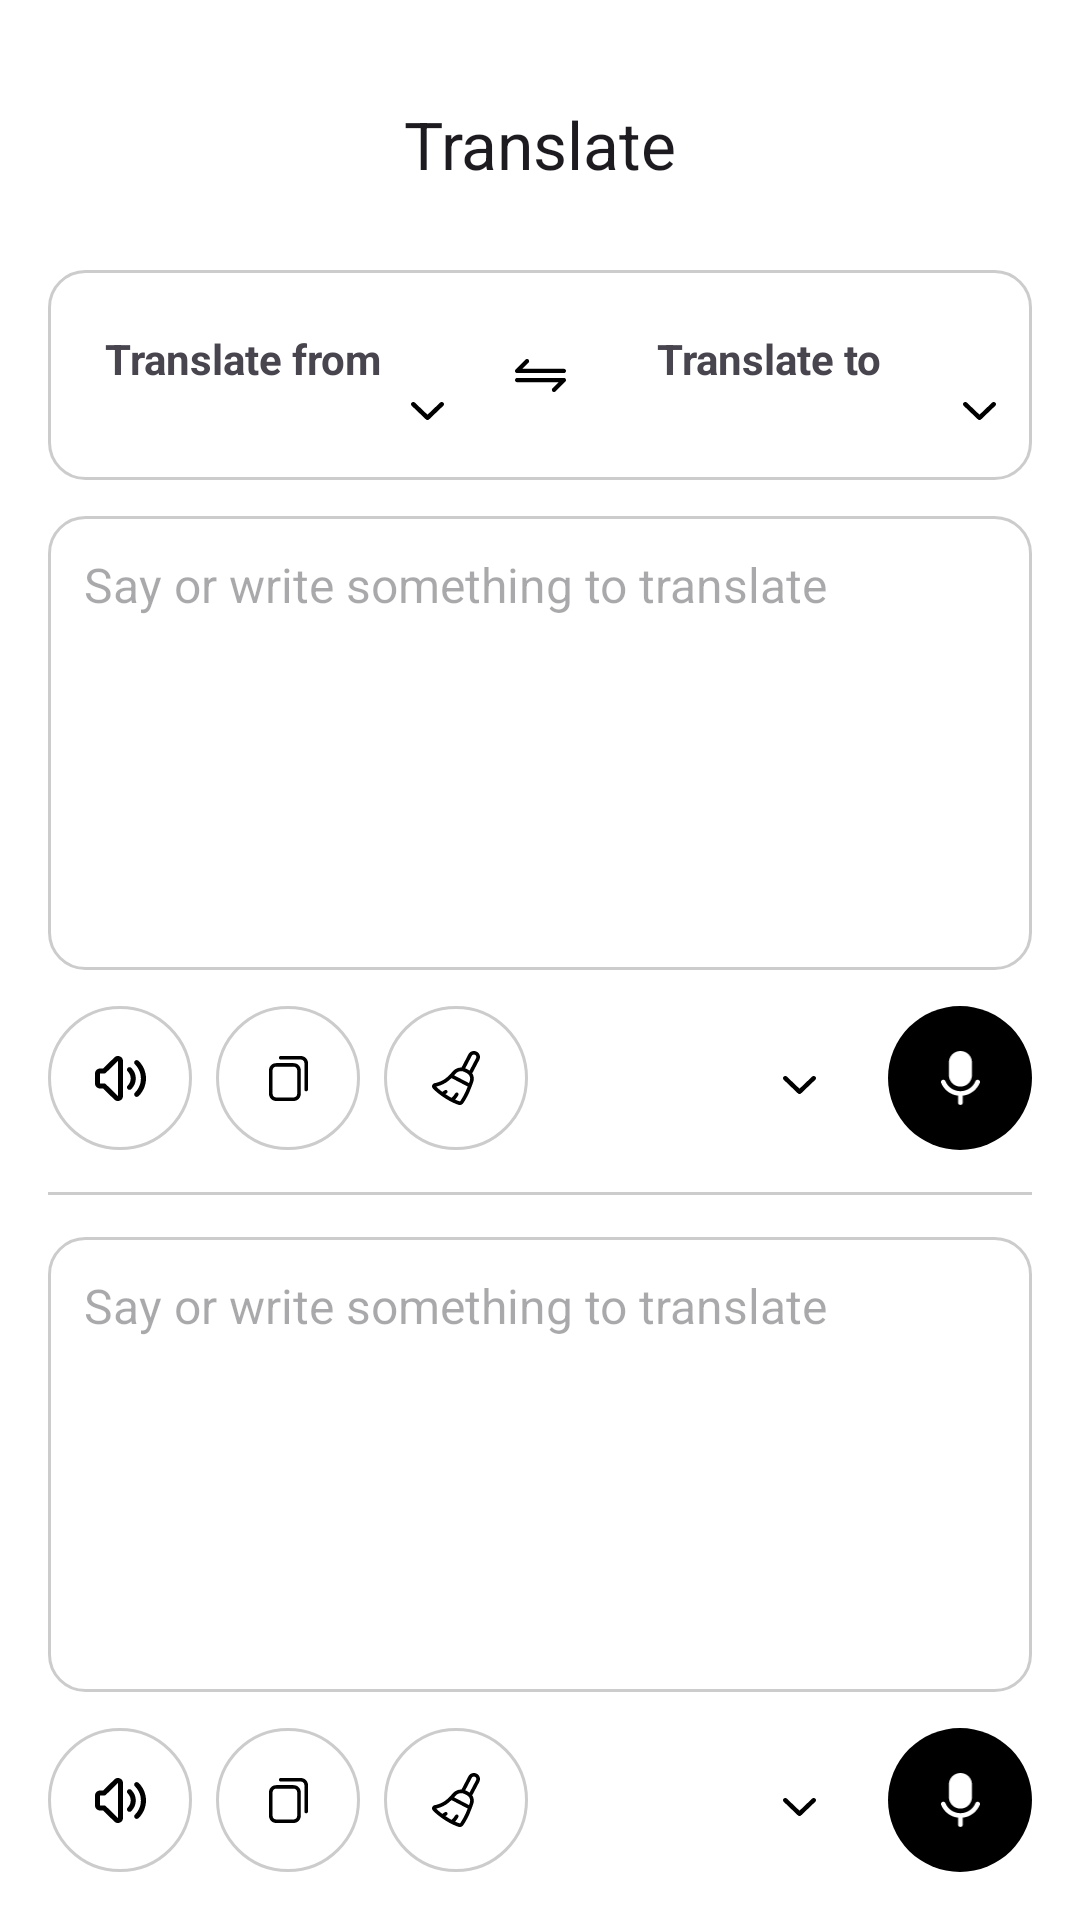

Icon bounding boxes for this 1080px x 1920px phone screenshot, format (x1, y1, x2, y2):
Clear text: (384, 1006, 528, 1150), (384, 1728, 528, 1872)
Copy text: (216, 1006, 360, 1150), (216, 1728, 360, 1872)
Exchange: (515, 359, 566, 392)
